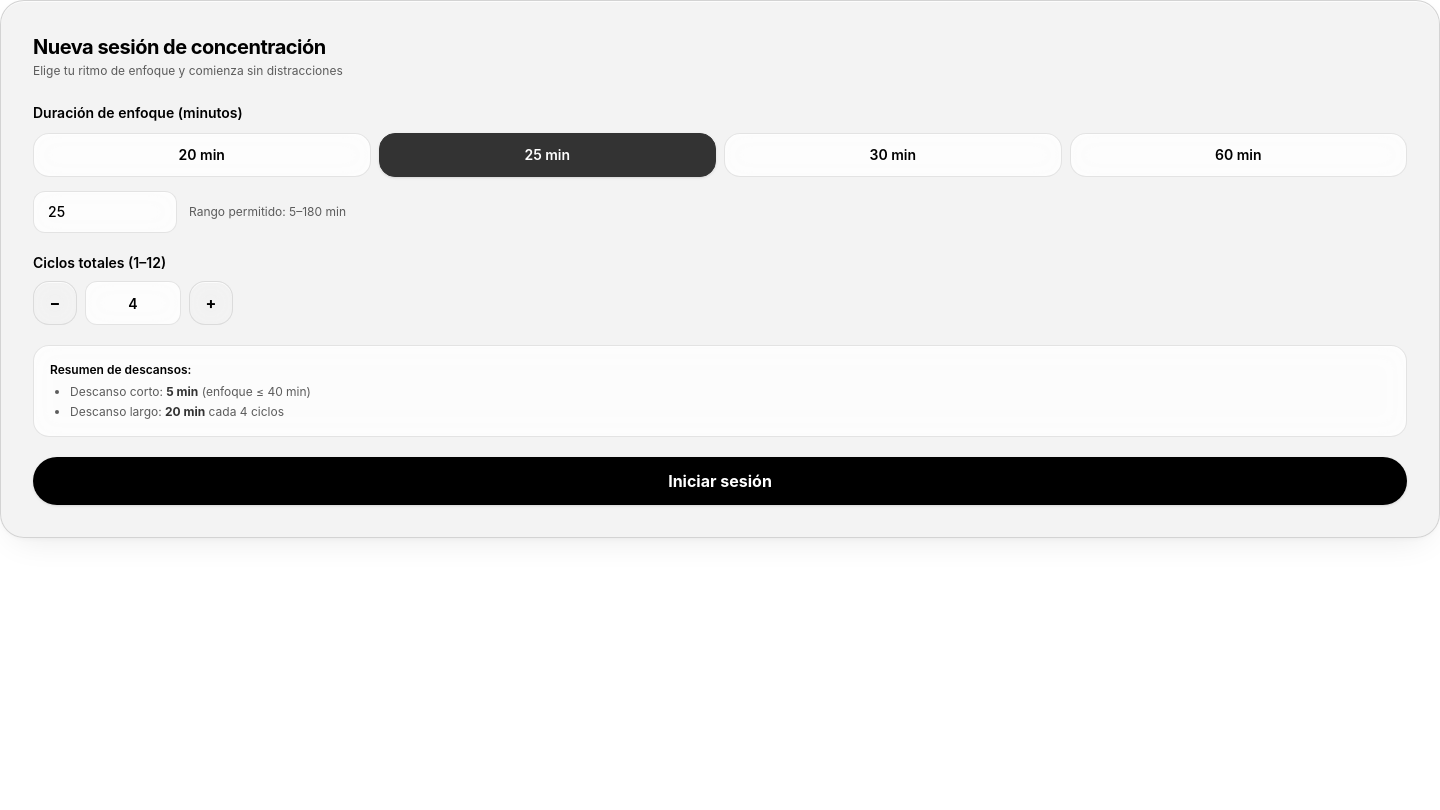
Test: UI Components Security & Input Validation › blocks invalid focus duration in SessionSetup before submitting
The image size is (1440, 810).
Replace the text in the number field named "Duración personalizada" with "2" at {"x": 105, "y": 212}, box [33, 191, 177, 233]
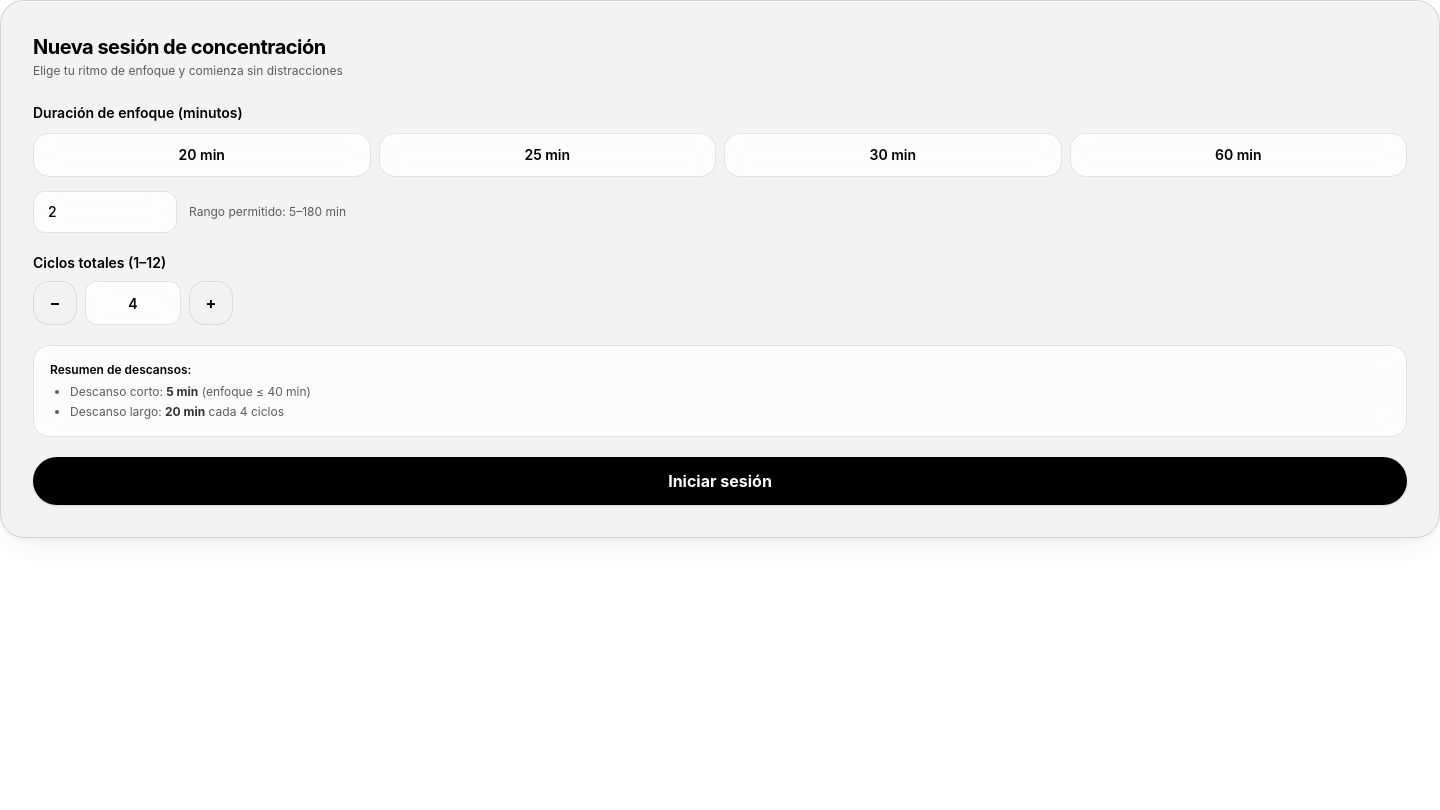
Click the button "Iniciar sesión" at {"x": 720, "y": 481}, box [33, 457, 1407, 505]
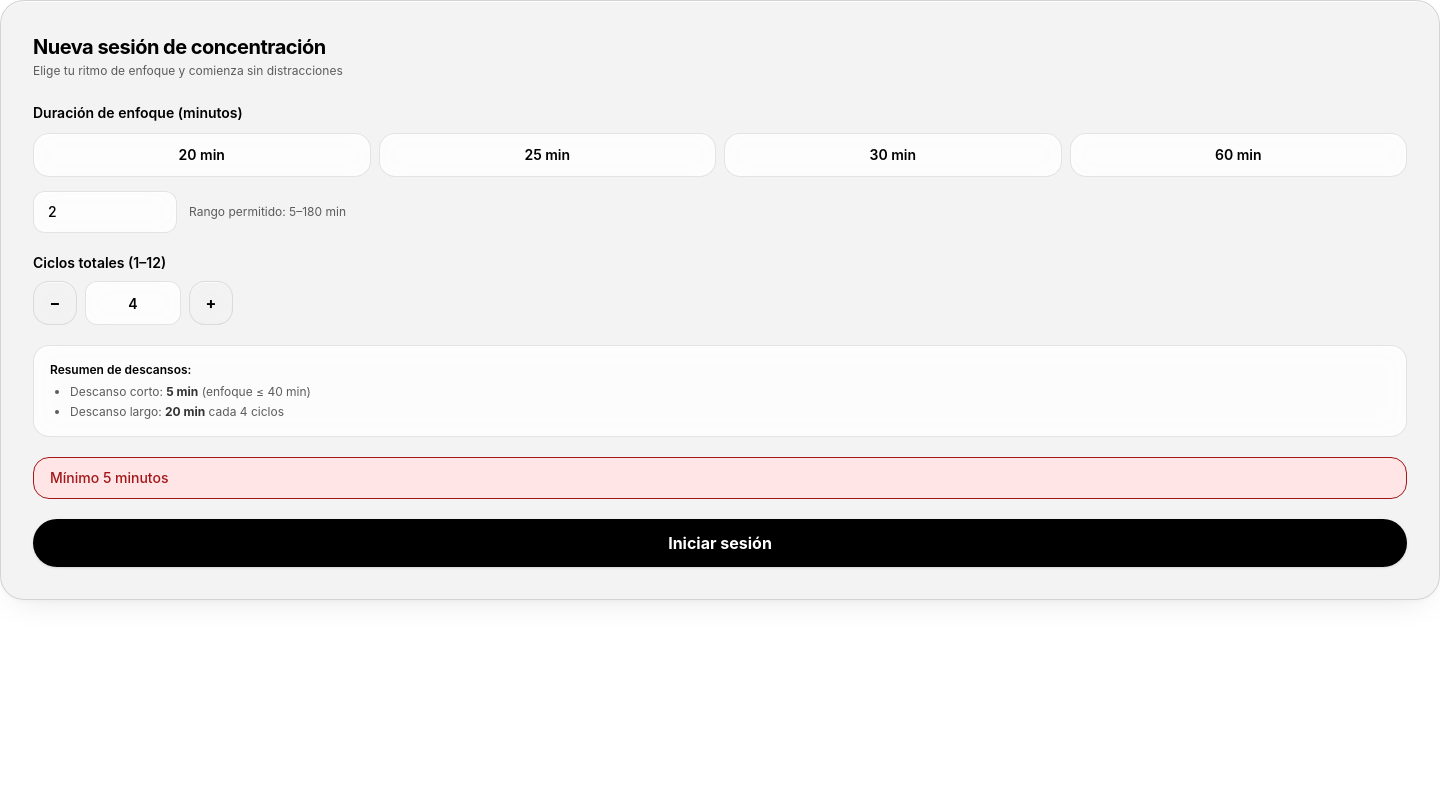
Expected: the message reads "Mínimo 5 minutos", [50, 469, 168, 486]
